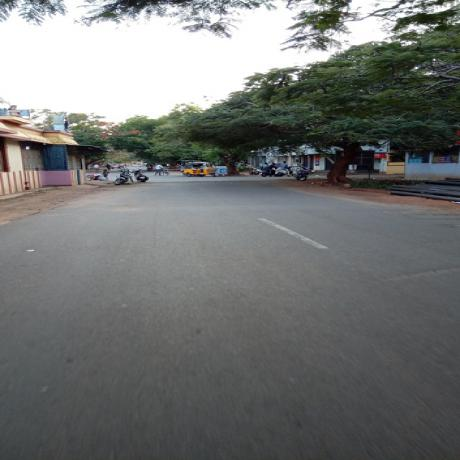Speed Bump: (126, 178, 270, 184)
